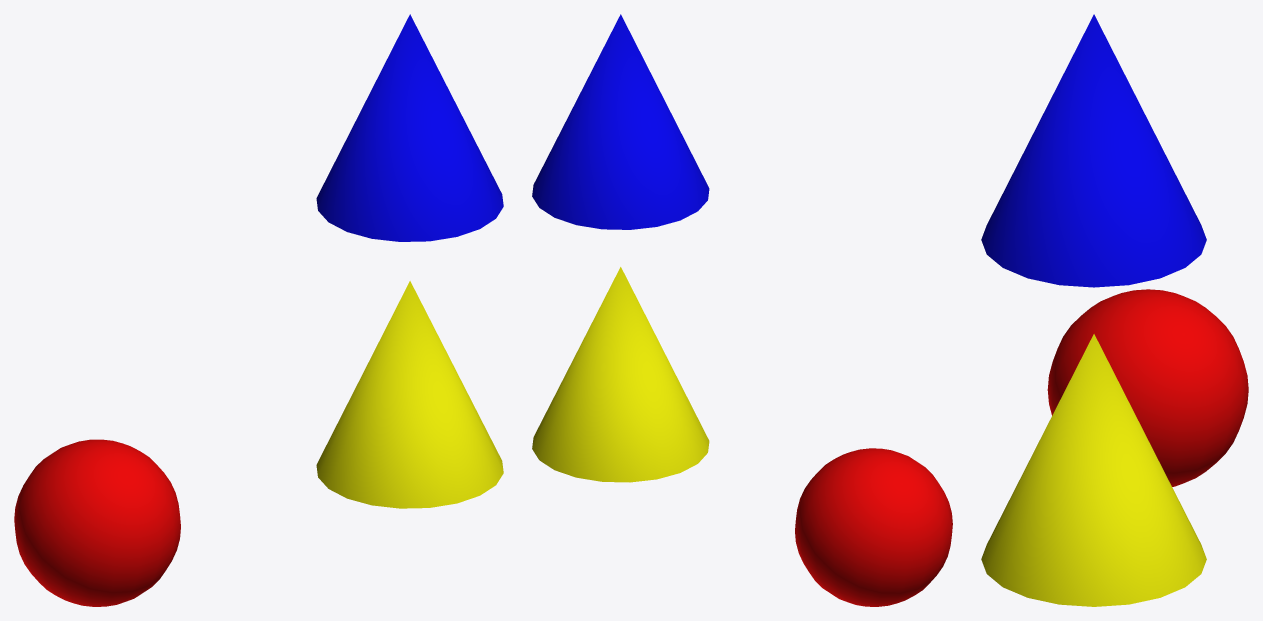
Rendered from instancedGeometry.dae.
3 renders of one model, left to right at view 1: azimuth 30°, elevation 25°; view 2: azimuth 150°, elevation 25°; view 3: azimuth 270°, elevation 25°, orthographic. The views are drawn at different scales.
Visible parts, largest first — view 1: pCone1, pCone2, pSphere1; view 2: pCone2, pCone1, pSphere1; view 3: pCone2, pCone1, pSphere1.
Part boxes in pixels (x1,y1,x2,y2): pCone1: [316, 281, 503, 508]; pCone2: [316, 14, 503, 241]; pSphere1: [14, 439, 180, 606]; pCone2: [532, 14, 709, 229]; pCone1: [532, 267, 709, 482]; pSphere1: [795, 448, 952, 606]; pCone2: [981, 14, 1206, 287]; pCone1: [981, 334, 1206, 606]; pSphere1: [1047, 289, 1248, 486].
Bounding box in the file's own units: 23.97 × 27.4 × 10.44.
